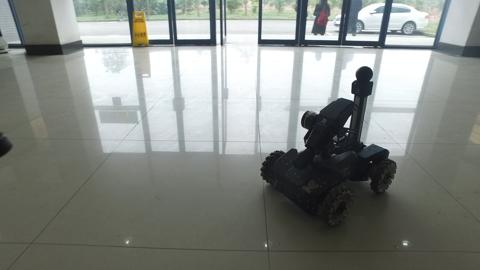car: (332, 1, 430, 35)
chariot: (258, 65, 397, 227)
